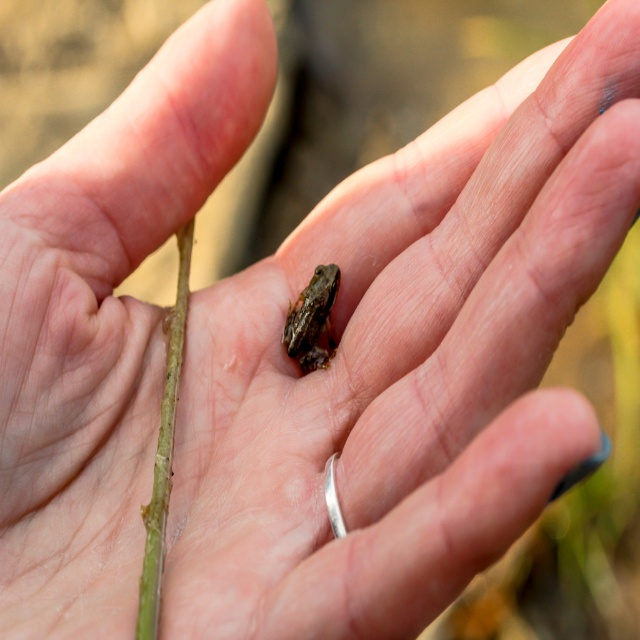Frog: (281, 262, 341, 372)
